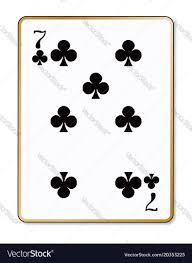seven of clubs: (18, 15, 169, 220)
